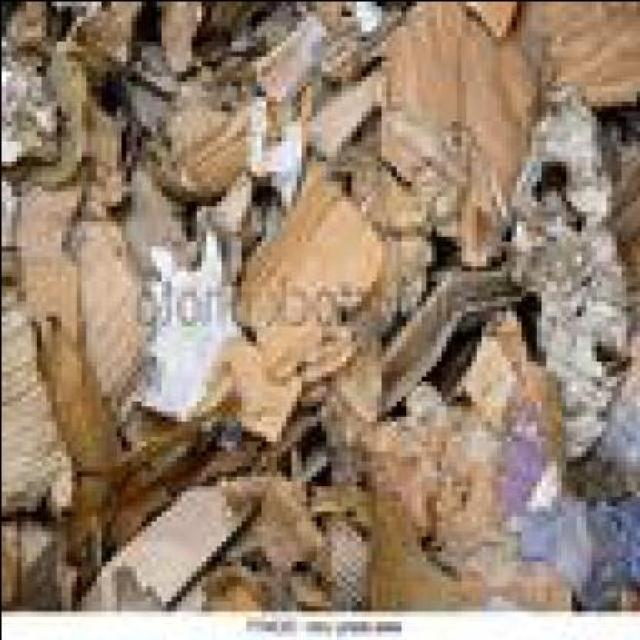CARDBOARD: (3, 2, 639, 606), (410, 300, 595, 600), (505, 74, 630, 454), (246, 160, 386, 365), (500, 404, 638, 602), (80, 470, 271, 605), (384, 260, 544, 405), (134, 216, 246, 416), (464, 10, 544, 261), (65, 200, 160, 405), (383, 2, 465, 235), (35, 310, 130, 510), (120, 416, 265, 536), (138, 1, 316, 96), (124, 89, 276, 200), (5, 295, 80, 510), (356, 154, 436, 334), (225, 470, 330, 605), (39, 50, 130, 205), (370, 471, 470, 600), (570, 335, 638, 497), (24, 160, 96, 300), (548, 2, 638, 108), (370, 416, 445, 536), (604, 116, 638, 342), (5, 30, 66, 155), (5, 506, 80, 606), (315, 54, 390, 154), (331, 335, 380, 470), (240, 326, 305, 426), (329, 1, 406, 76), (200, 546, 295, 606), (315, 500, 370, 600), (275, 380, 330, 469), (469, 560, 580, 600), (68, 1, 146, 51), (130, 155, 190, 220), (3, 1, 75, 51), (80, 470, 120, 550), (314, 470, 374, 515), (280, 89, 315, 160), (520, 2, 591, 36), (206, 171, 254, 220), (465, 0, 520, 31), (6, 164, 26, 244), (5, 240, 30, 295), (314, 2, 366, 24), (270, 429, 305, 460)
